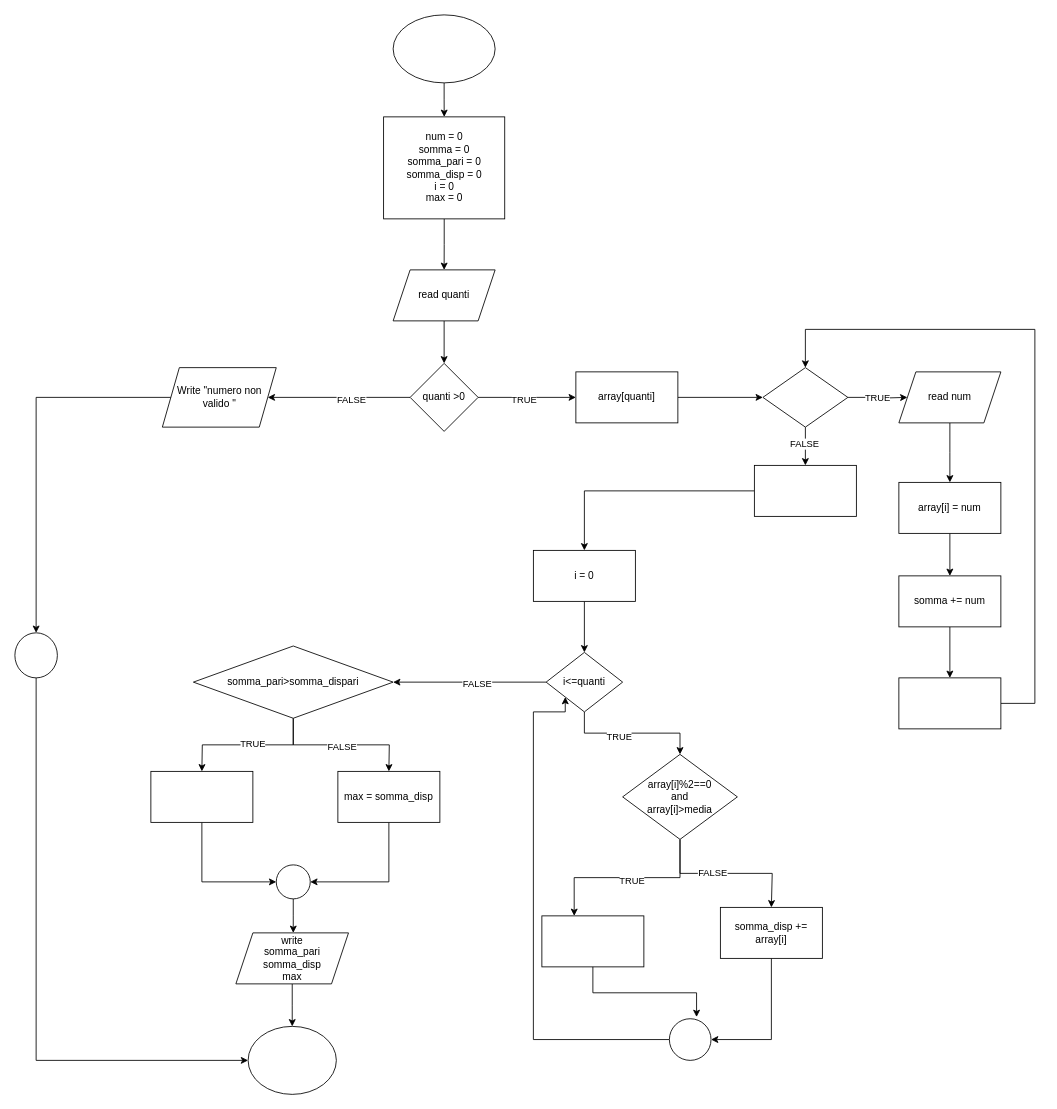
Some shapes in this 1057 by 1109 pixel diagram are drawn without their labels. Each missing label, with the centre of its shape:
"FINE" goes at [291,1060].
"i += 1" goes at [949,703].
"i<quanti" goes at [805,397].
"INIZIO" goes at [443,48].
"max = somma_pari" goes at [201,796].
"media = somma/quanti" goes at [805,490].
"somma_pari += array[i]" goes at [592,941].
